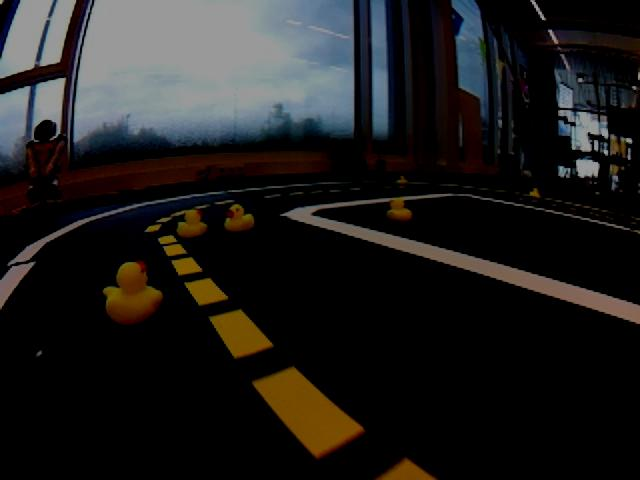Duckies: (104, 263, 162, 325), (223, 205, 255, 232), (177, 210, 207, 238), (385, 197, 414, 224), (528, 188, 541, 198), (398, 176, 408, 184)
